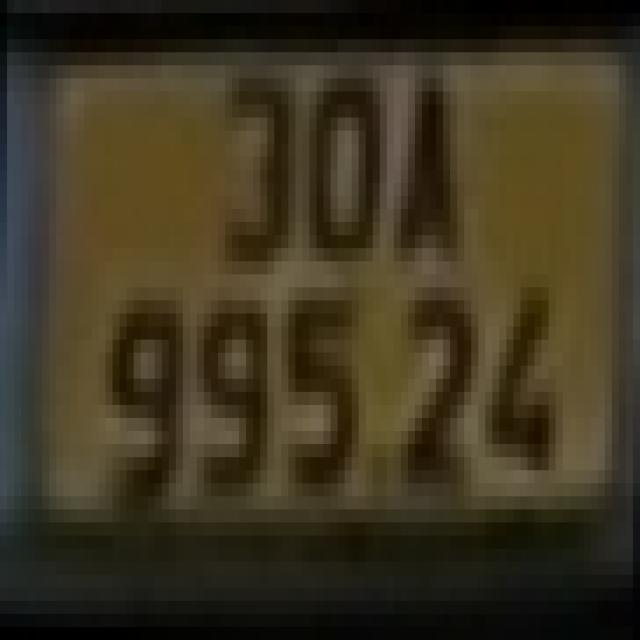0: (309, 66, 380, 262)
2: (401, 287, 471, 483)
4: (485, 288, 570, 497)
5: (281, 287, 359, 483)
9: (105, 288, 183, 510), (197, 288, 267, 497)
A: (394, 66, 471, 262)
